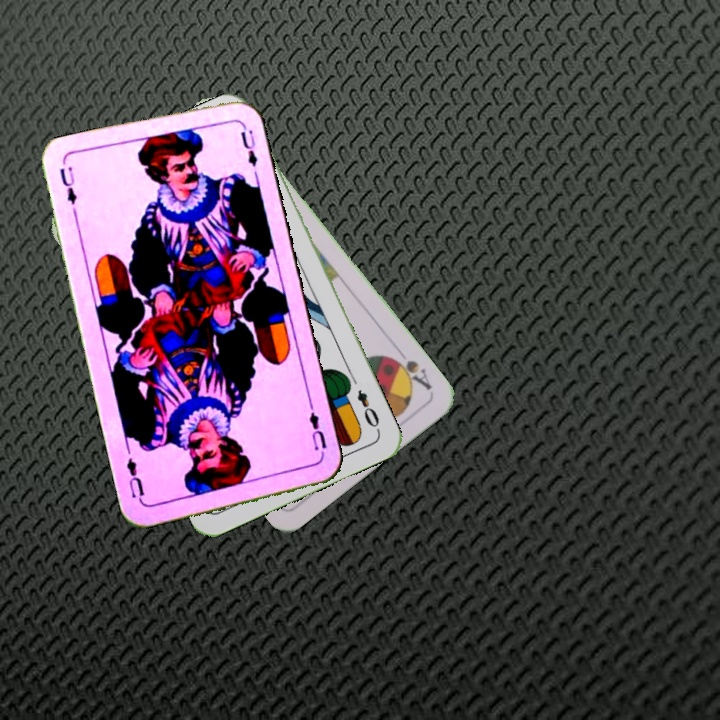EO: (353, 385, 383, 434)
EU: (55, 163, 80, 220), (305, 408, 329, 453)
SA: (385, 352, 435, 393)
